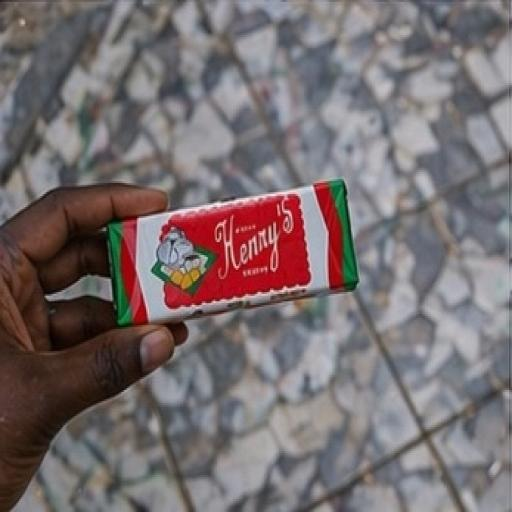henry-s: (80, 155, 399, 369)
